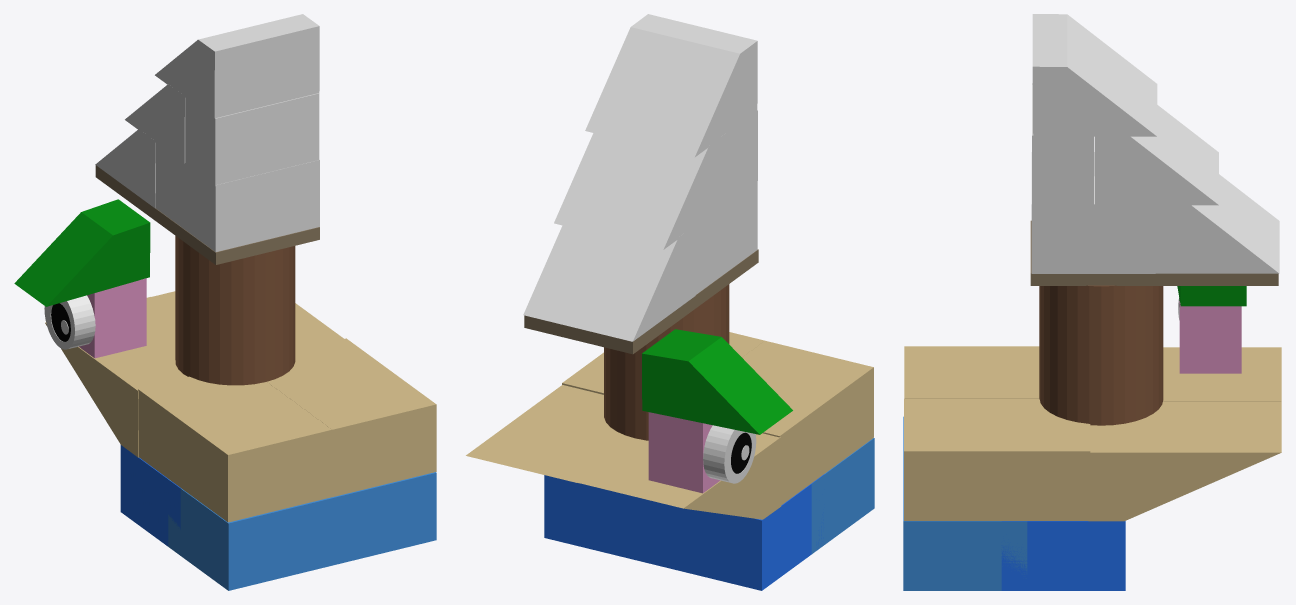
Rendered from BOAT.fbx.
The picture shows the model from 3 angles, left to right: view 1: azimuth 30°, elevation 25°; view 2: azimuth 150°, elevation 25°; view 3: azimuth 270°, elevation 25°; orthographic projection. The views are drawn at different scales.
Parts seen in each view (by area): view 1: fishtailbase.001, ElephantBody_B.003, fishtailbase.002, Cylinder.015, backtopfin.003, ElephentLeg_F.013, ElephentLeg_F.014, rightfin.003, backbottomfin.001, ElephantBody_B.002, ElephentLeg_F.015, Cube.002 (+4 smaller); view 2: ElephantBody_B.002, backtopfin.003, backtopfin.002, backtopfin.001, fishtailbase.001, rightfin.003, backbottomfin.002, backbottomfin.001, Cylinder.015, ElephantBody_B.003, ElephentLeg_F.013, ElephentLeg_F.015 (+5 smaller); view 3: fishtailbase.002, Cylinder.015, backbottomfin.002, backtopfin.003, backtopfin.002, backtopfin.001, ElephentLeg_F.013, ElephantBody_B.003, ElephantBody_B.002, fishtailbase.001, backbottomfin.001, ElephentLeg_F.014 (+3 smaller).
Part boxes in pixels (bbox=[...]): fishtailbase.001: bbox=[138, 376, 332, 522]; ElephantBody_B.003: bbox=[168, 472, 436, 590]; fishtailbase.002: bbox=[267, 338, 436, 496]; Cylinder.015: bbox=[175, 236, 295, 385]; backtopfin.003: bbox=[155, 14, 319, 118]; ElephentLeg_F.013: bbox=[155, 143, 319, 251]; ElephentLeg_F.014: bbox=[185, 93, 319, 185]; rightfin.003: bbox=[14, 199, 150, 306]; backbottomfin.001: bbox=[45, 297, 187, 457]; ElephantBody_B.002: bbox=[120, 445, 180, 546]; ElephentLeg_F.015: bbox=[79, 278, 146, 358]; Cube.002: bbox=[95, 165, 319, 264]; ElephantBody_B.002: bbox=[544, 474, 824, 590]; backtopfin.003: bbox=[585, 14, 757, 157]; backtopfin.002: bbox=[554, 133, 726, 249]; backtopfin.001: bbox=[523, 225, 695, 341]; fishtailbase.001: bbox=[742, 340, 873, 504]; rightfin.003: bbox=[642, 329, 792, 434]; backbottomfin.002: bbox=[466, 385, 631, 483]; backbottomfin.001: bbox=[572, 433, 781, 519]; Cylinder.015: bbox=[604, 284, 729, 440]; ElephantBody_B.003: bbox=[811, 438, 874, 553]; ElephentLeg_F.013: bbox=[695, 181, 757, 294]; ElephentLeg_F.015: bbox=[648, 412, 720, 493]; fishtailbase.002: bbox=[904, 399, 1090, 520]; Cylinder.015: bbox=[1039, 285, 1163, 425]; backbottomfin.002: bbox=[1088, 401, 1281, 521]; backtopfin.003: bbox=[1032, 14, 1157, 136]; backtopfin.002: bbox=[1094, 105, 1218, 205]; backtopfin.001: bbox=[1155, 174, 1279, 273]; ElephentLeg_F.013: bbox=[1031, 152, 1155, 273]; ElephantBody_B.003: bbox=[903, 416, 1027, 590]; ElephantBody_B.002: bbox=[1001, 521, 1125, 590]; fishtailbase.001: bbox=[904, 346, 1039, 398]; backbottomfin.001: bbox=[1163, 347, 1281, 401]; ElephentLeg_F.014: bbox=[1032, 83, 1093, 204].
Bounding box in the file's own units: 337 × 594 × 410.
